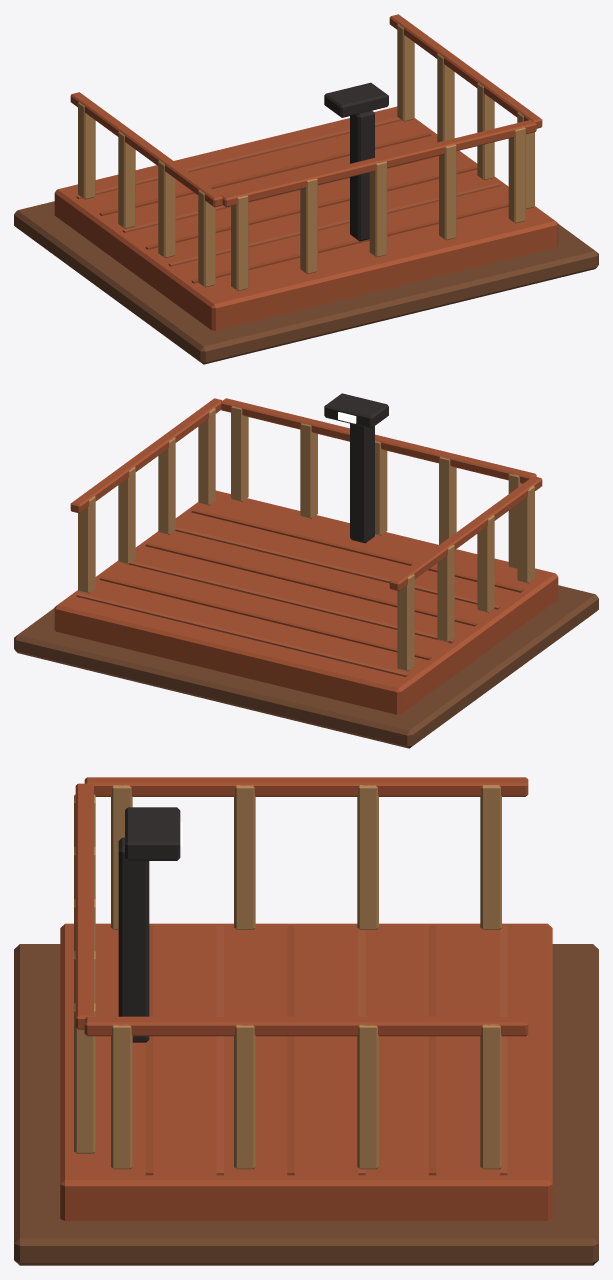
Rendered from Overlook.glb.
The picture shows the model from 3 angles, top to bottom: view 1: azimuth 30°, elevation 25°; view 2: azimuth 150°, elevation 25°; view 3: azimuth 270°, elevation 25°; orthographic projection. The views are drawn at different scales.
Parts seen in each view (by area): view 1: Body, Deck; view 2: Deck, Body; view 3: Deck, Body.
Boxes of the visible parts, x1=… form: Body: x1=14, y1=14, x2=598, y2=364; Deck: x1=54, y1=106, x2=558, y2=330; Deck: x1=54, y1=490, x2=558, y2=714; Body: x1=14, y1=393, x2=598, y2=748; Deck: x1=60, y1=923, x2=552, y2=1220; Body: x1=14, y1=777, x2=598, y2=1265.
Size of what is drawn, in the model's own units: 11.5 by 5.28 by 9.5.
